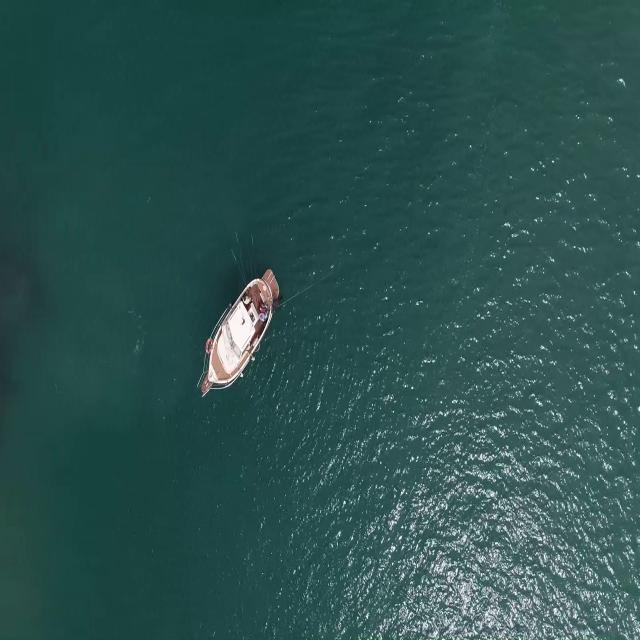boat: (193, 266, 280, 393)
life_buoy: (204, 332, 214, 355)
person: (257, 308, 268, 323), (240, 294, 253, 306)
